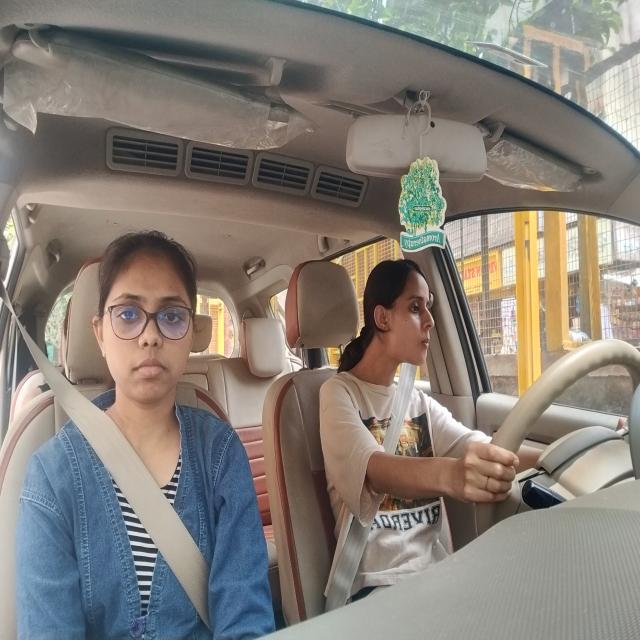person: (93, 227, 201, 411), (360, 260, 434, 376)
